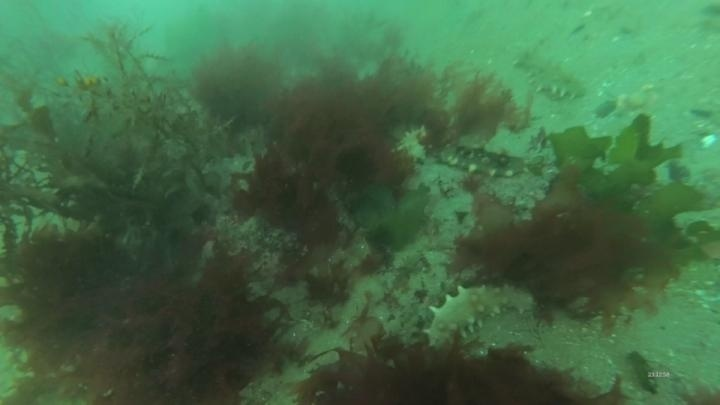holothurian: (421, 280, 537, 352), (512, 45, 590, 104), (437, 138, 531, 183), (391, 122, 431, 170)
